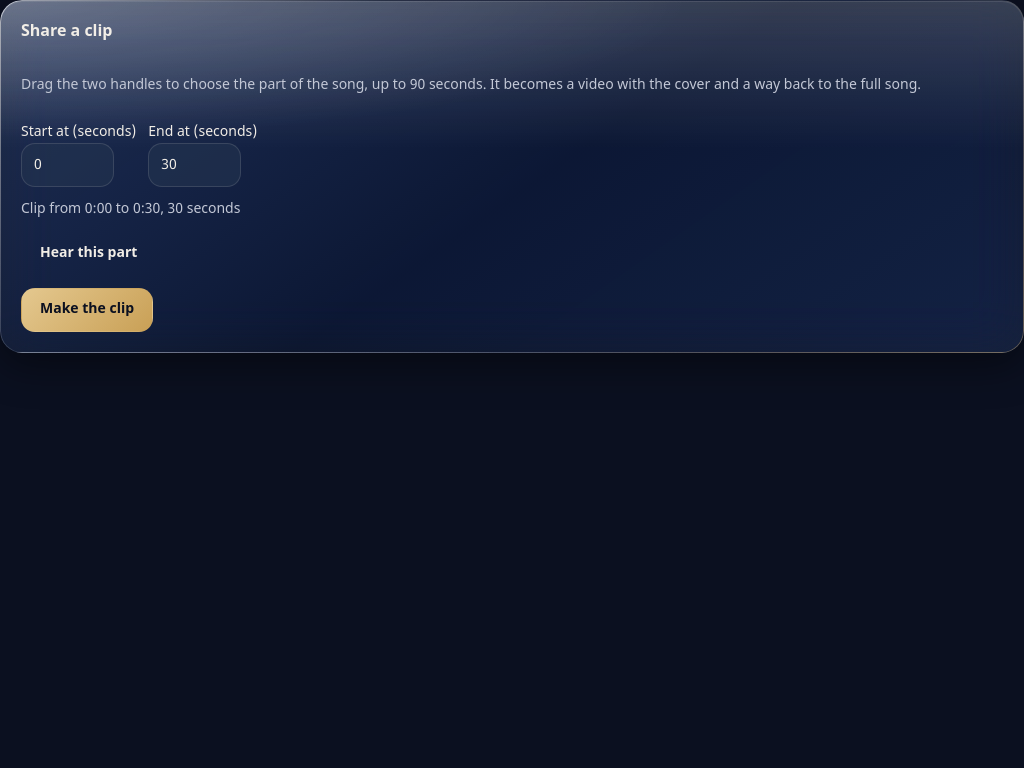
Test case: ClipCard › puts the caption, with the link and the hashtags, on the clipboard when Share is pressed, since Instagram drops text handed to it
Click the button "Make the clip" at (87, 310), box 21,288 -> 153,332
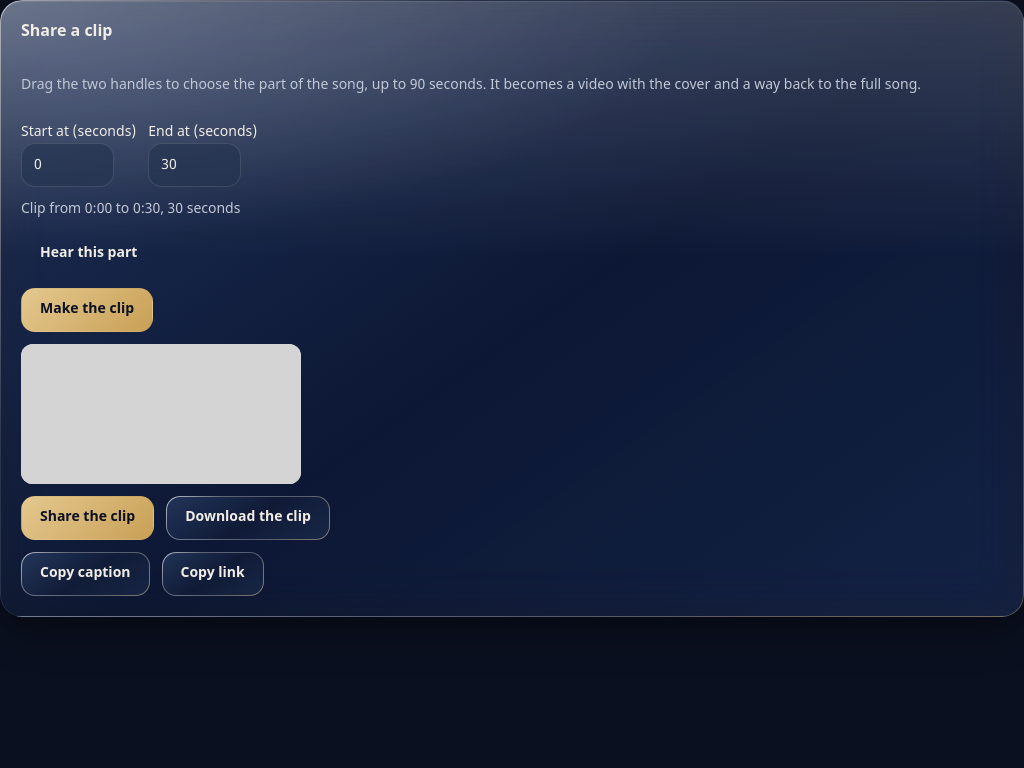
Check: the button "Share the clip" is enabled
Click the button "Share the clip" at (88, 518), box 21,496 -> 154,540
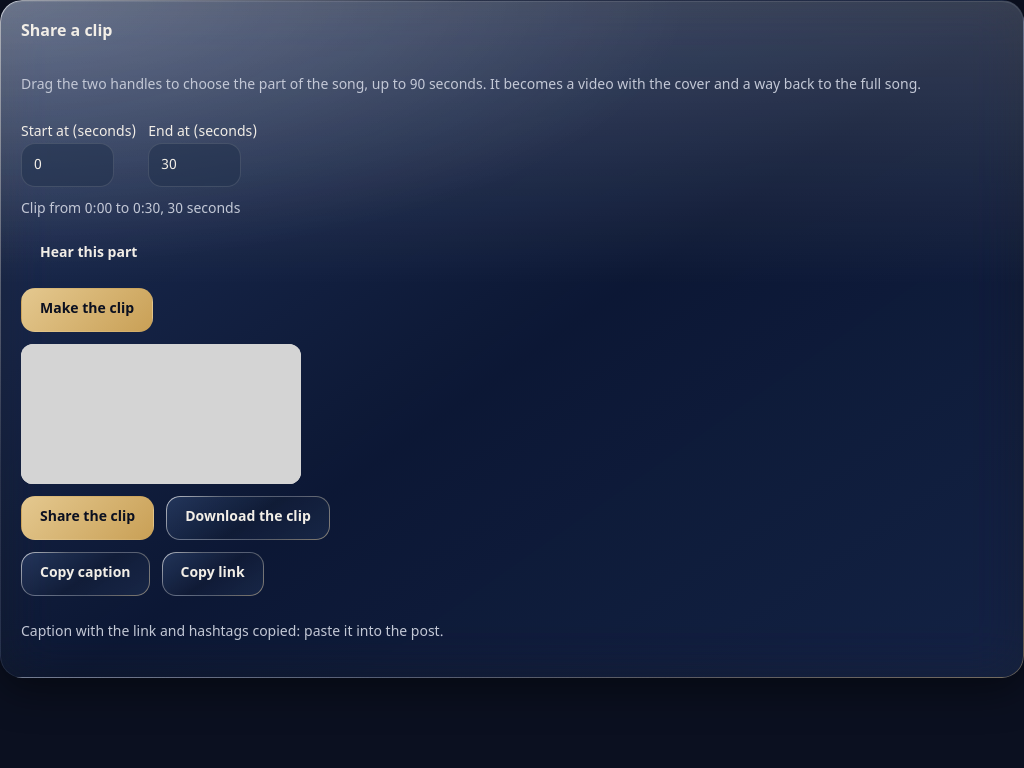
Check: the text "Caption with the link and hashtags copied: paste it into the post." is shown, box 21,623 -> 443,642
